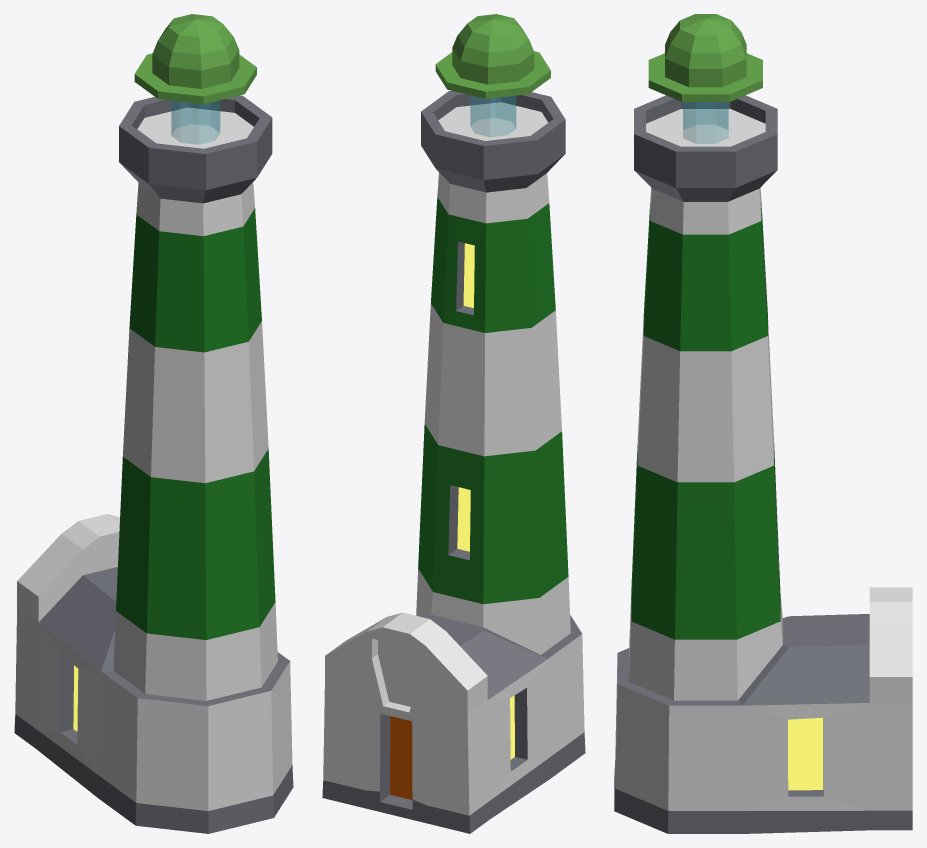
Rendered from green_lighthouse_fixed.fbx.
3 renders of one model, left to right at view 1: azimuth 30°, elevation 25°; view 2: azimuth 150°, elevation 25°; view 3: azimuth 270°, elevation 25°, orthographic. The views are drawn at different scales.
Parts seen in each view (by area): view 1: Cylindre.002; view 2: Cylindre.002; view 3: Cylindre.002.
Boxes of the visible parts, <box> form: Cylindre.002: <box>14,14,293,833</box>; Cylindre.002: <box>322,14,585,833</box>; Cylindre.002: <box>614,14,912,833</box>.
Size of the model in its own units: 139 by 649 by 226.
